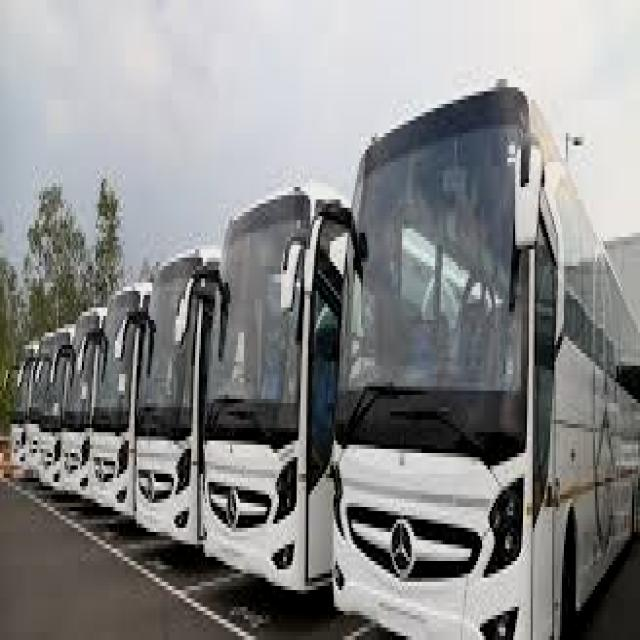bus: (339, 77, 640, 640), (200, 166, 345, 616), (131, 235, 214, 565), (88, 265, 140, 547), (57, 283, 96, 527), (37, 297, 70, 507), (5, 318, 31, 498)
